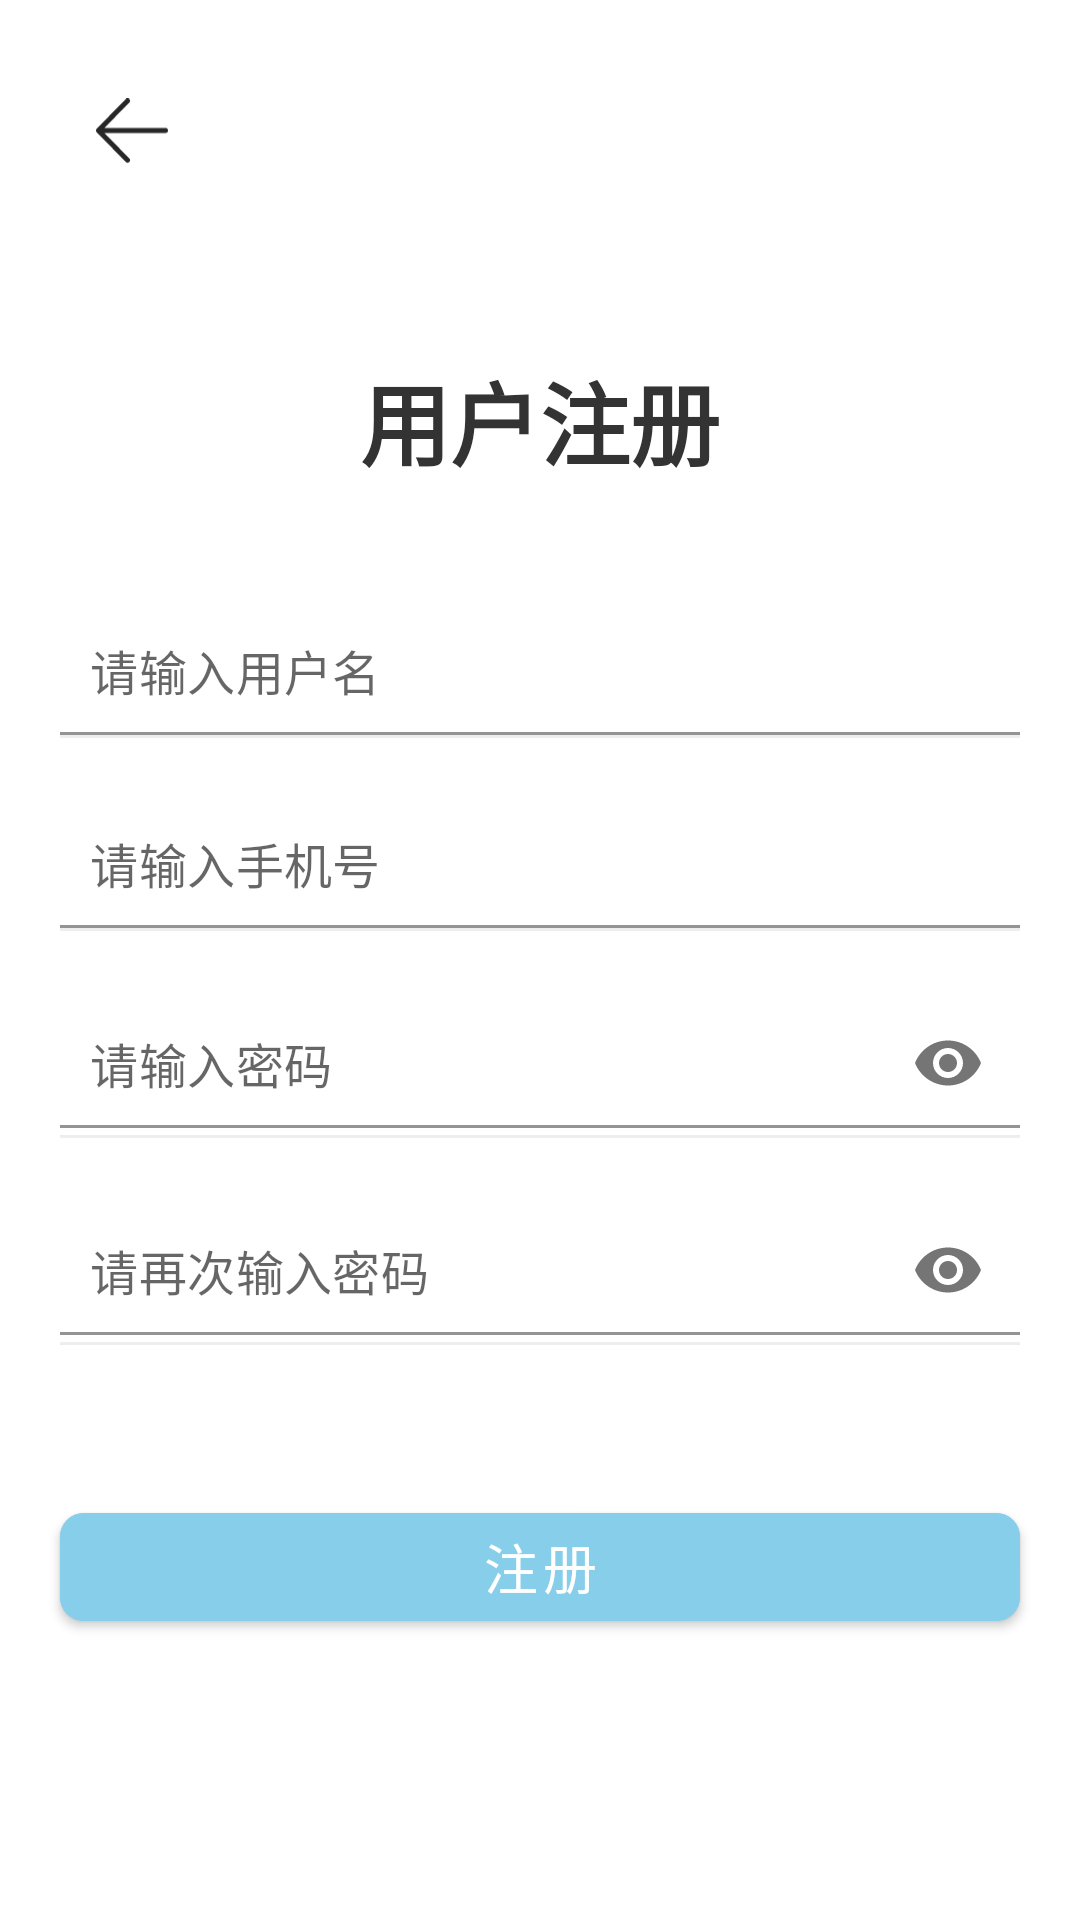

Screen size 1080px x 1920px. Icon name, then its center in pixels as point (x, y):
back: point (132, 130)
